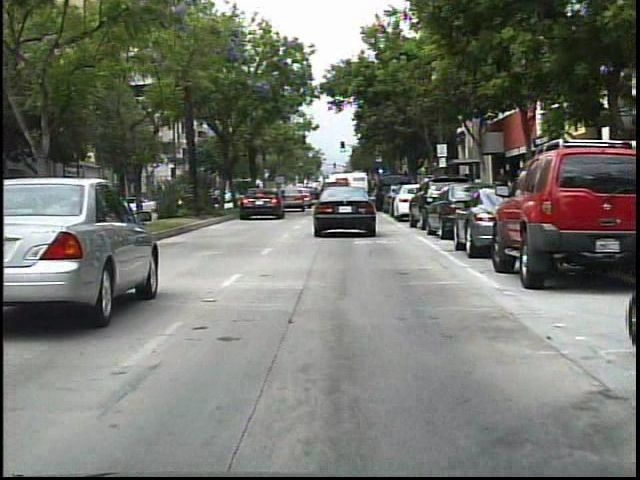person: (489, 159, 514, 221)
